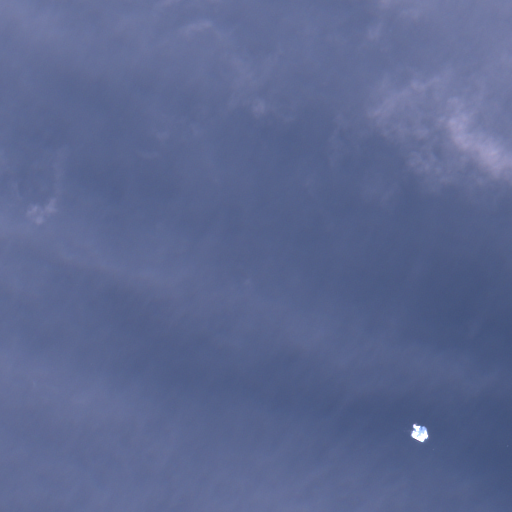Iceberg: (410, 424, 428, 441)
